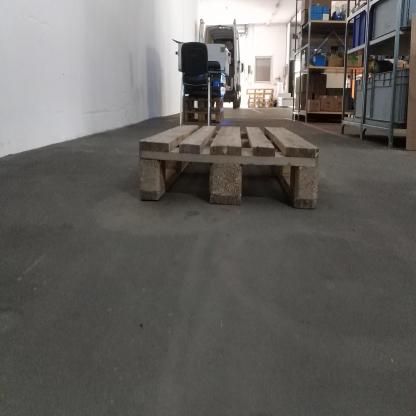BoxFace: (136, 120, 325, 217)
